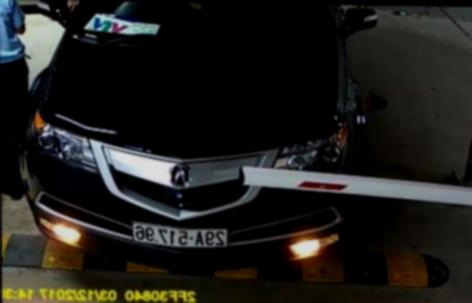License_Plate: (126, 218, 233, 252)
